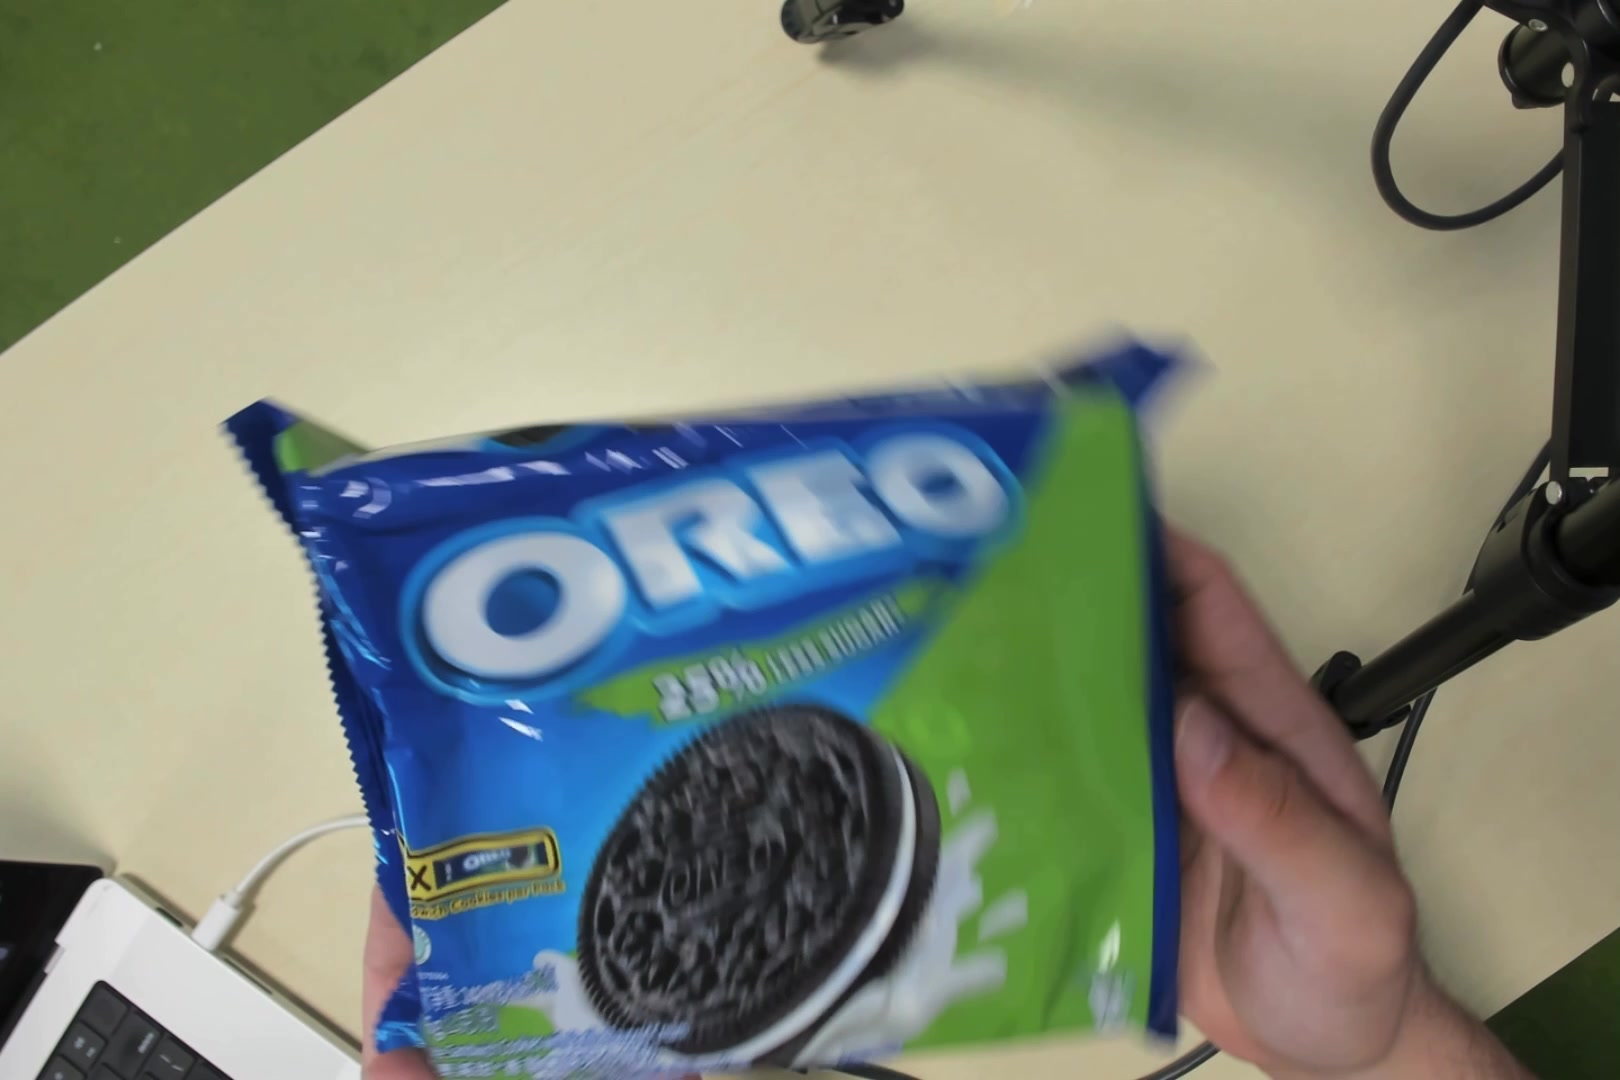SweetsChocolatesOthers_200-299g_Halal_NonHealthy: (374, 419, 1201, 1051)
